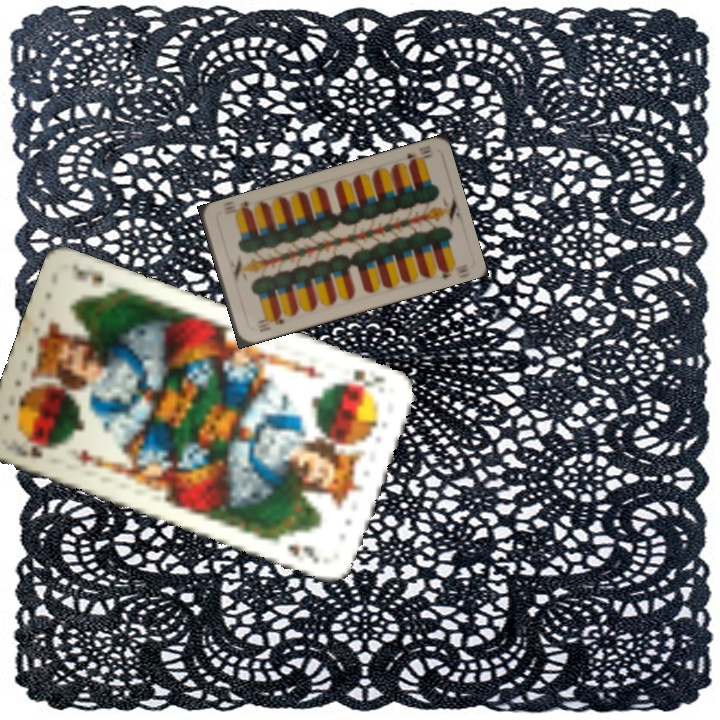E10: (402, 141, 435, 168), (254, 311, 287, 335)
SK: (340, 364, 389, 391), (12, 440, 54, 462)
